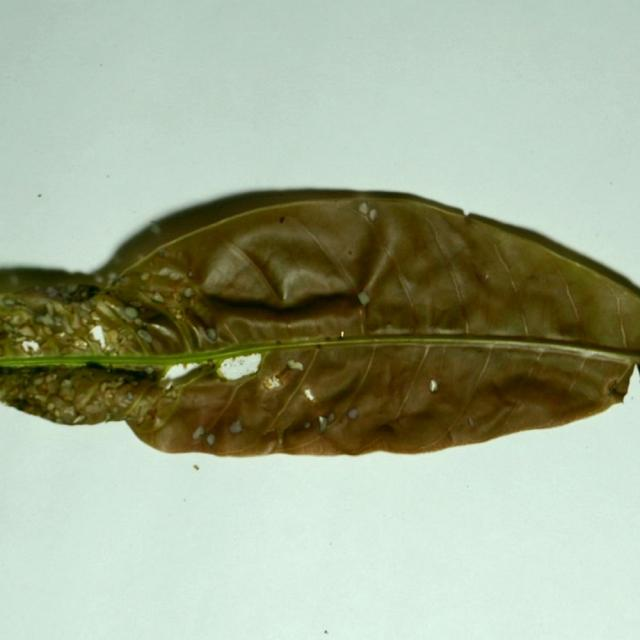Anthracnose: (147, 279, 203, 326), (120, 386, 166, 429), (63, 302, 100, 340), (96, 378, 137, 399), (3, 307, 35, 329), (113, 327, 139, 350), (8, 393, 33, 412), (59, 403, 78, 422), (60, 384, 75, 401), (41, 302, 56, 317), (34, 375, 47, 388), (45, 286, 59, 298), (99, 382, 110, 394), (18, 342, 30, 353), (153, 292, 164, 303), (165, 389, 177, 399), (66, 284, 78, 294), (170, 271, 182, 280), (15, 335, 27, 343), (107, 410, 116, 420), (183, 288, 193, 297), (141, 273, 150, 282), (144, 366, 154, 374), (206, 358, 215, 366), (47, 402, 55, 411), (104, 365, 112, 372)
Mango: (0, 189, 639, 461)
